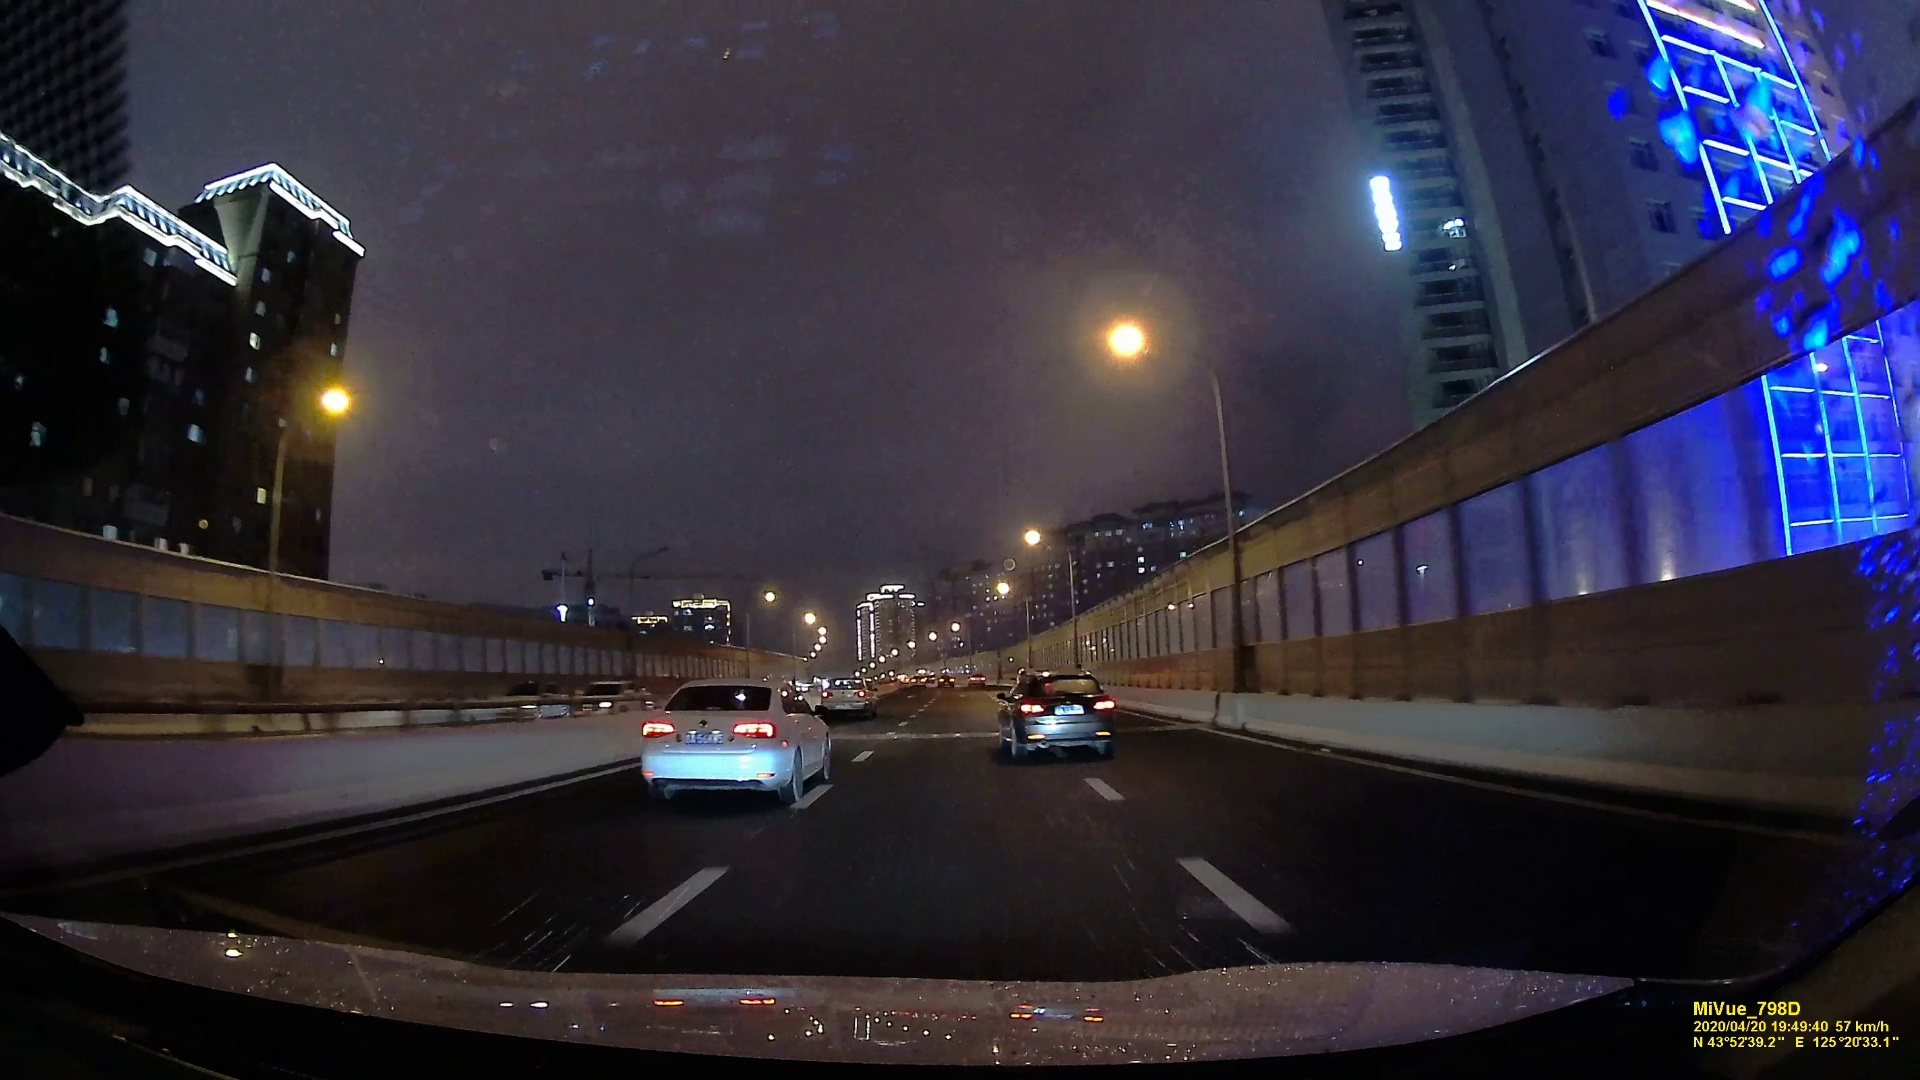vehicle: (638, 678, 832, 807), (992, 667, 1120, 760), (824, 676, 873, 715)
